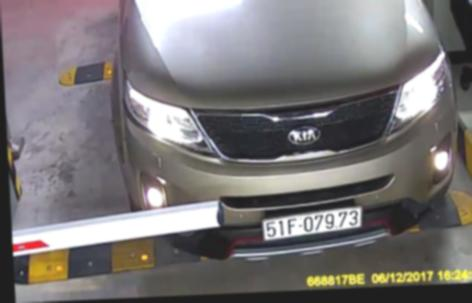License_Plate: (259, 207, 363, 238)
